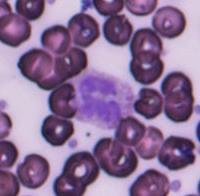N: (71, 71, 135, 128)
